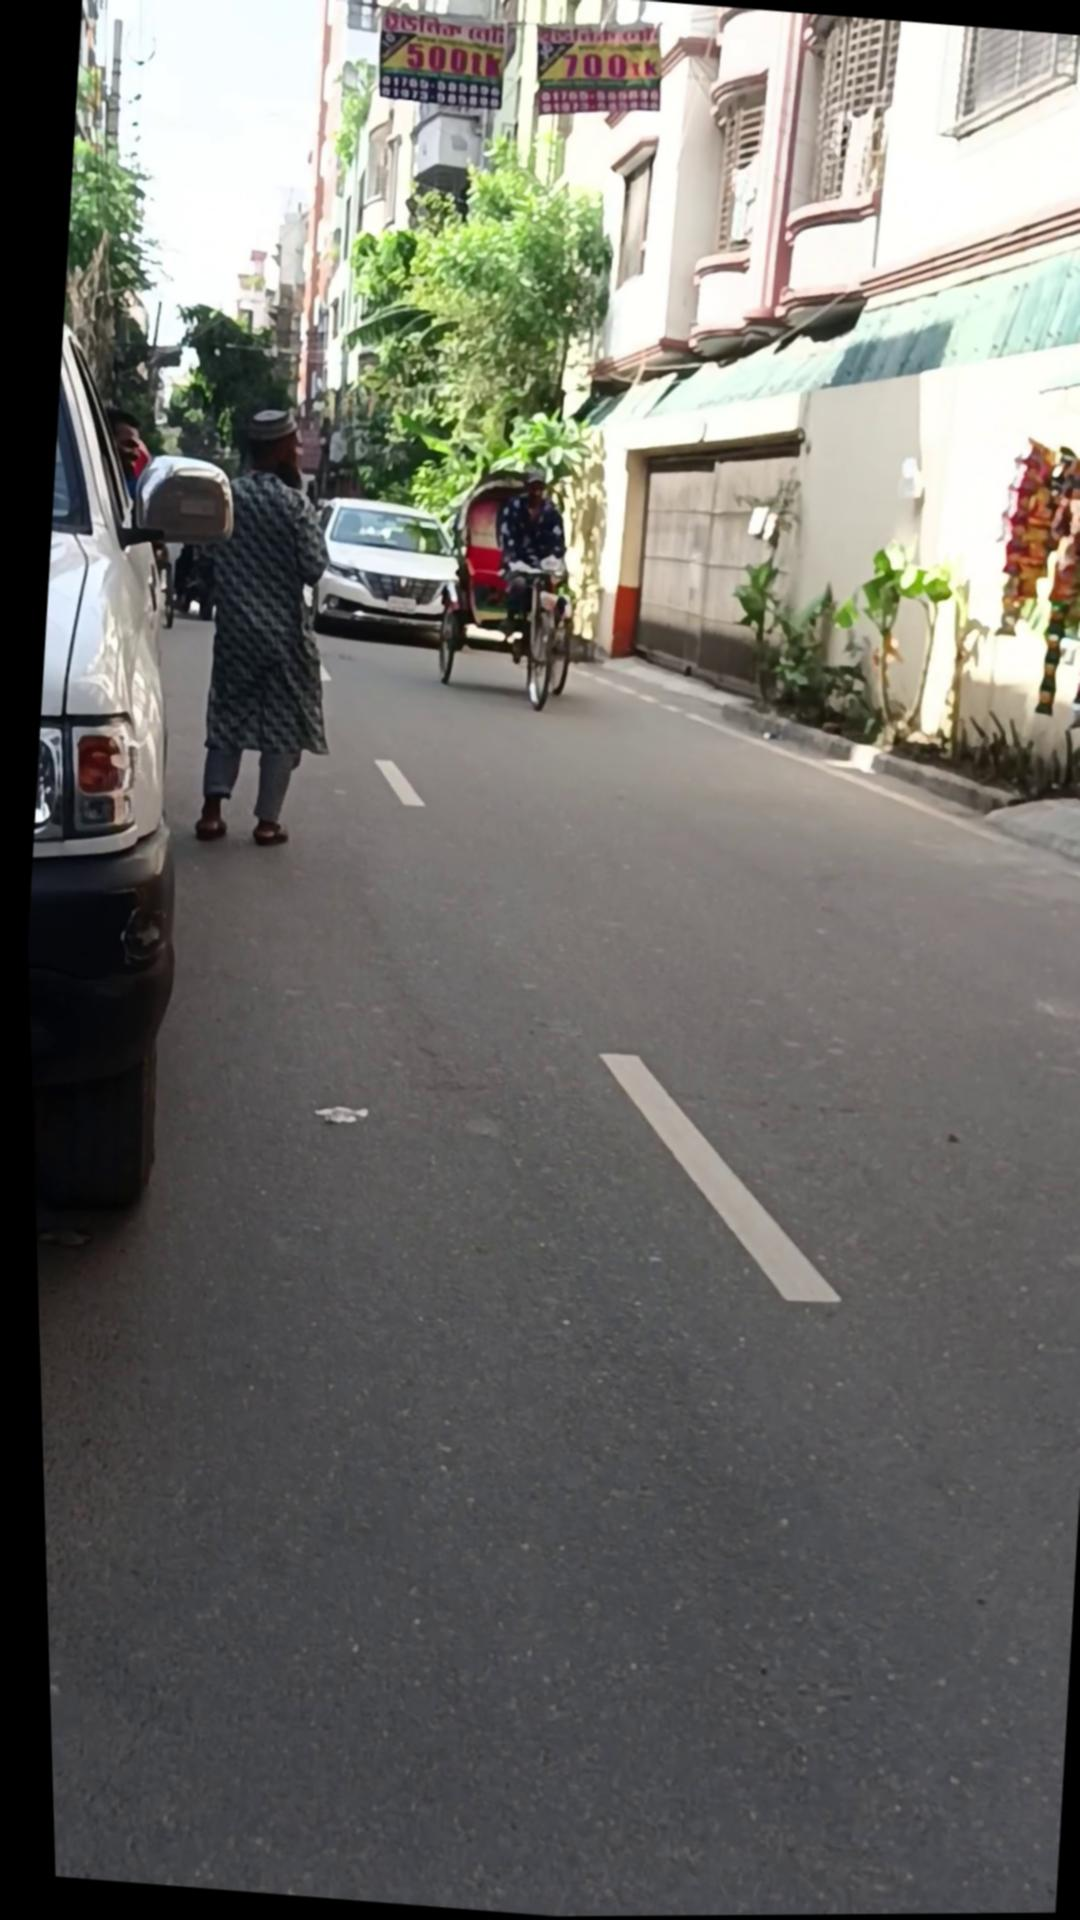Bollard: (8, 320, 261, 1218), (298, 493, 464, 646)
Broken-road: (558, 629, 1080, 873), (858, 745, 1017, 820), (971, 787, 1080, 881), (711, 696, 853, 765)
Curb: (156, 401, 356, 852), (481, 468, 572, 637)
Fence: (419, 462, 585, 715)
Light-pole: (314, 112, 629, 551), (153, 298, 298, 473)
Obstacle: (571, 290, 1080, 804)
